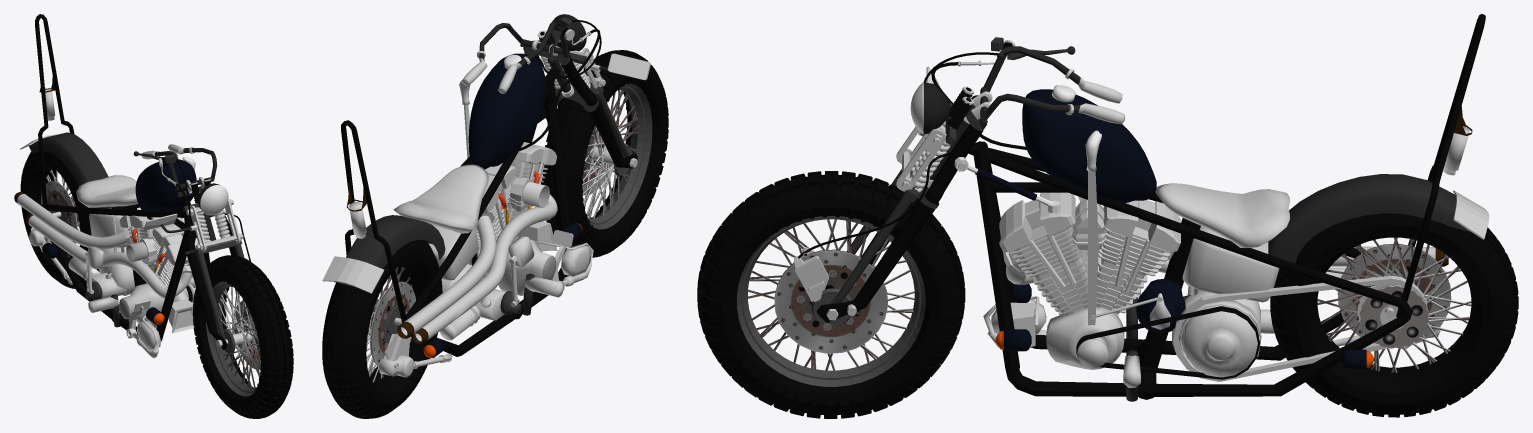
The model's file is Mbike_motion.fbx.
3 renders of one model, left to right at view 1: azimuth 30°, elevation 25°; view 2: azimuth 150°, elevation 25°; view 3: azimuth 270°, elevation 25°, orthographic. The views are drawn at different scales.
Parts seen in each view (by area): view 1: ICO球, 円柱.045, 円柱.013; view 2: ICO球, 円柱.045, 円柱.013; view 3: ICO球, 円柱.045, 円柱.013.
Part boxes in pixels (<box>): ICO球: <box>14,14,257,358</box>; 円柱.045: <box>193,255,293,418</box>; 円柱.013: <box>20,151,99,288</box>; ICO球: <box>322,14,650,377</box>; 円柱.045: <box>541,50,668,257</box>; 円柱.013: <box>322,240,442,418</box>; ICO球: <box>794,14,1489,401</box>; 円柱.045: <box>697,171,965,418</box>; 円柱.013: <box>1270,213,1518,417</box>.
Bounding box in the file's own units: 48.67 × 92.15 × 171.
